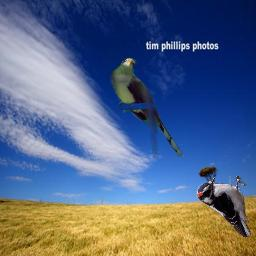Cuckoo: (110, 57, 188, 158)
Woodpecker: (196, 176, 251, 237)
